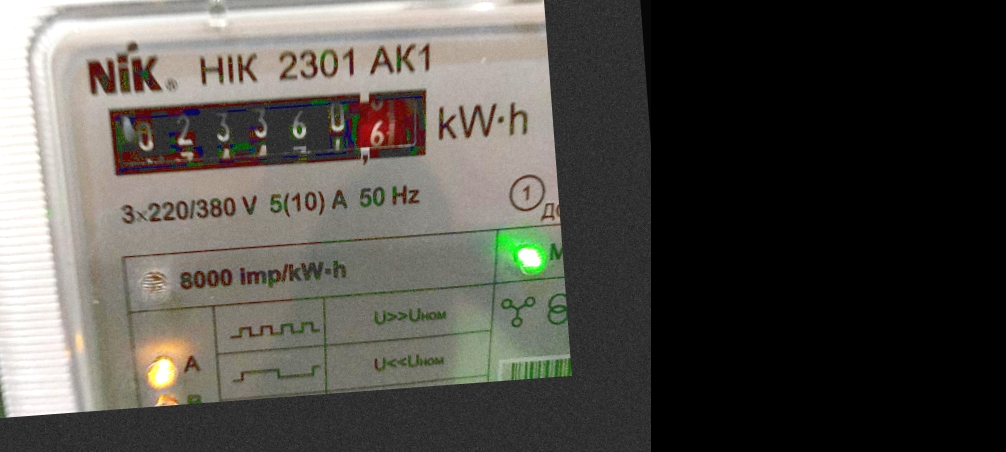0: (131, 116, 156, 153), (324, 98, 348, 134)
2: (171, 111, 195, 148)
3: (210, 108, 233, 145), (249, 105, 269, 140)
6: (286, 105, 308, 140), (365, 114, 385, 148)
screen: (93, 72, 450, 196)
